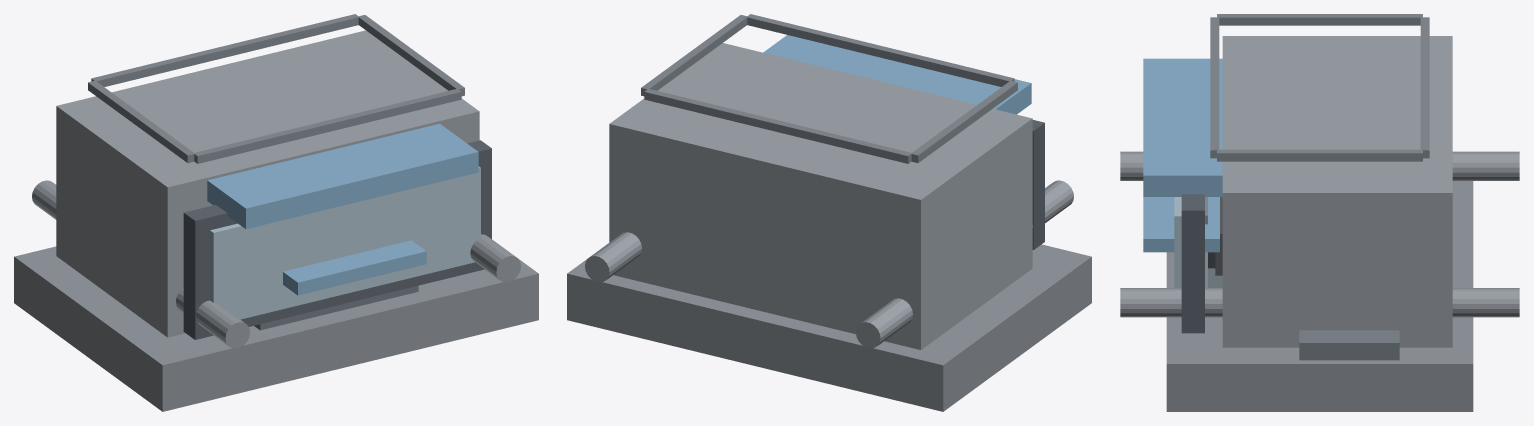
File: car_dealership.glb
The picture shows the model from 3 angles, left to right: view 1: azimuth 30°, elevation 25°; view 2: azimuth 150°, elevation 25°; view 3: azimuth 270°, elevation 25°; orthographic projection. The views are drawn at different scales.
Parts seen in each view (by area): view 1: world; view 2: world; view 3: world.
Part boxes in pixels (x1,y1,x2,y2): world: (14,14,538,411); world: (567,14,1091,411); world: (1120,14,1519,411).
Bounding box in the file's own units: 1.52 × 0.9284 × 1.36.
